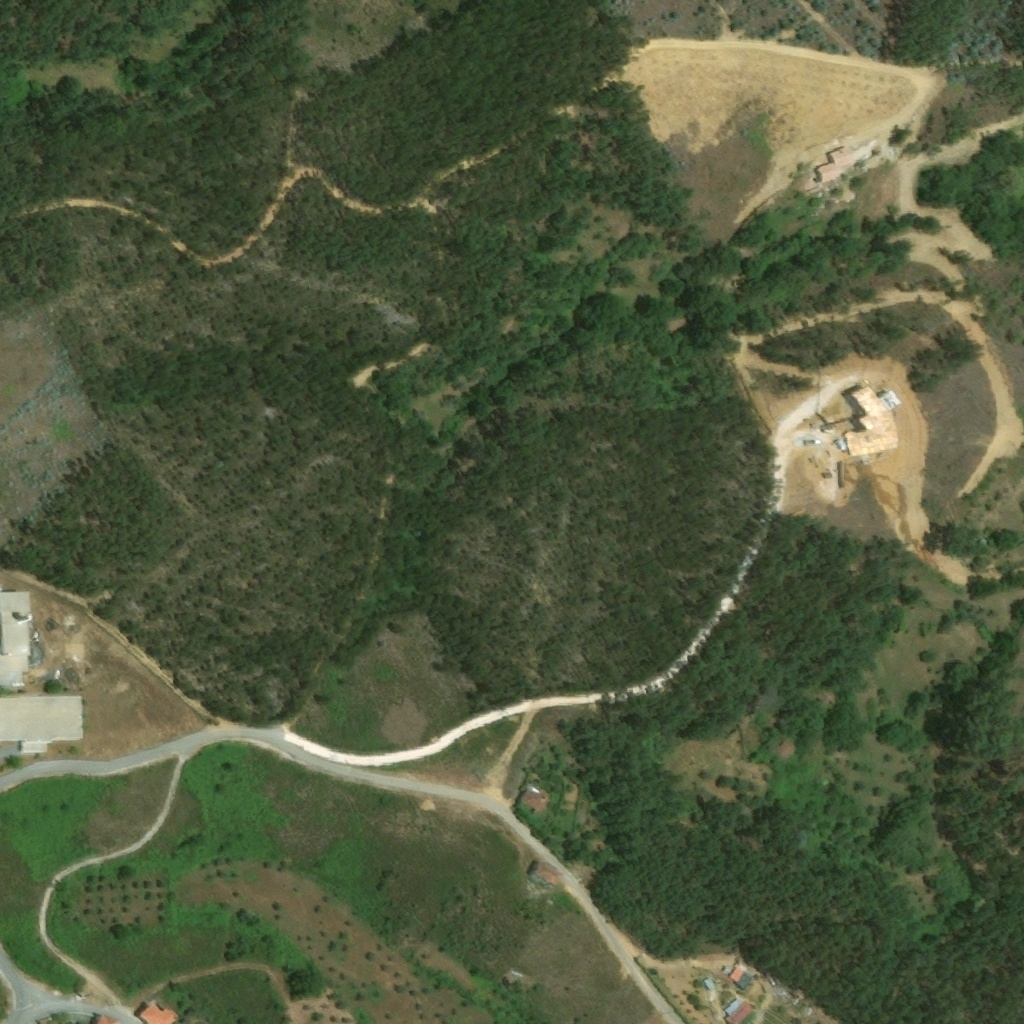0 no-damage: (0, 696, 83, 754), (0, 588, 31, 687), (135, 995, 180, 1023), (517, 782, 551, 813), (526, 861, 562, 888), (724, 998, 753, 1023), (728, 962, 753, 990), (96, 1015, 121, 1023), (702, 977, 716, 991)
4 un-classified: (90, 989, 108, 1005)
